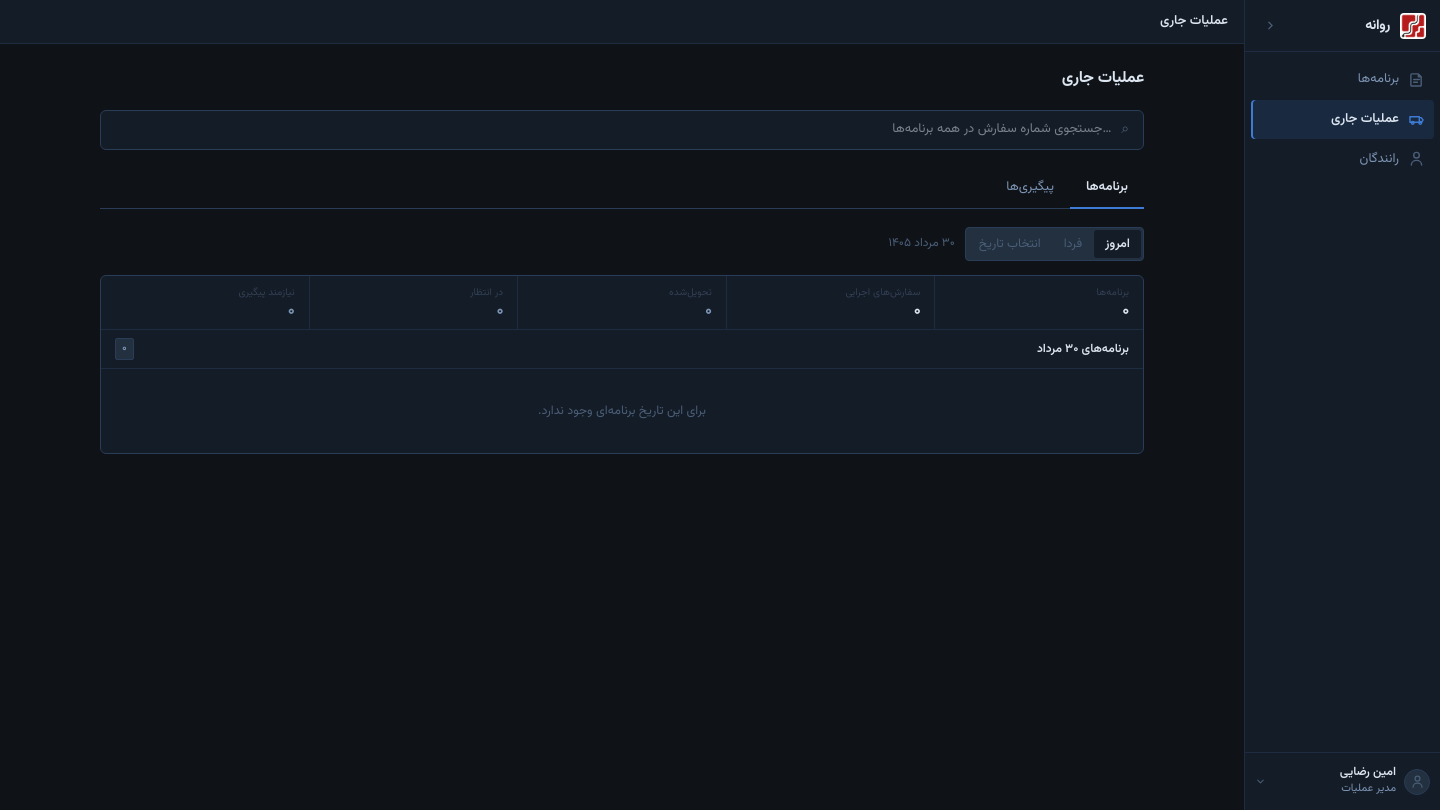
Test: A05 Global Order Search — UI › clearing search hides dropdown
Type "10" into the field with test id "ops-search-input" at point(613, 130), box [115,119,1111,140]
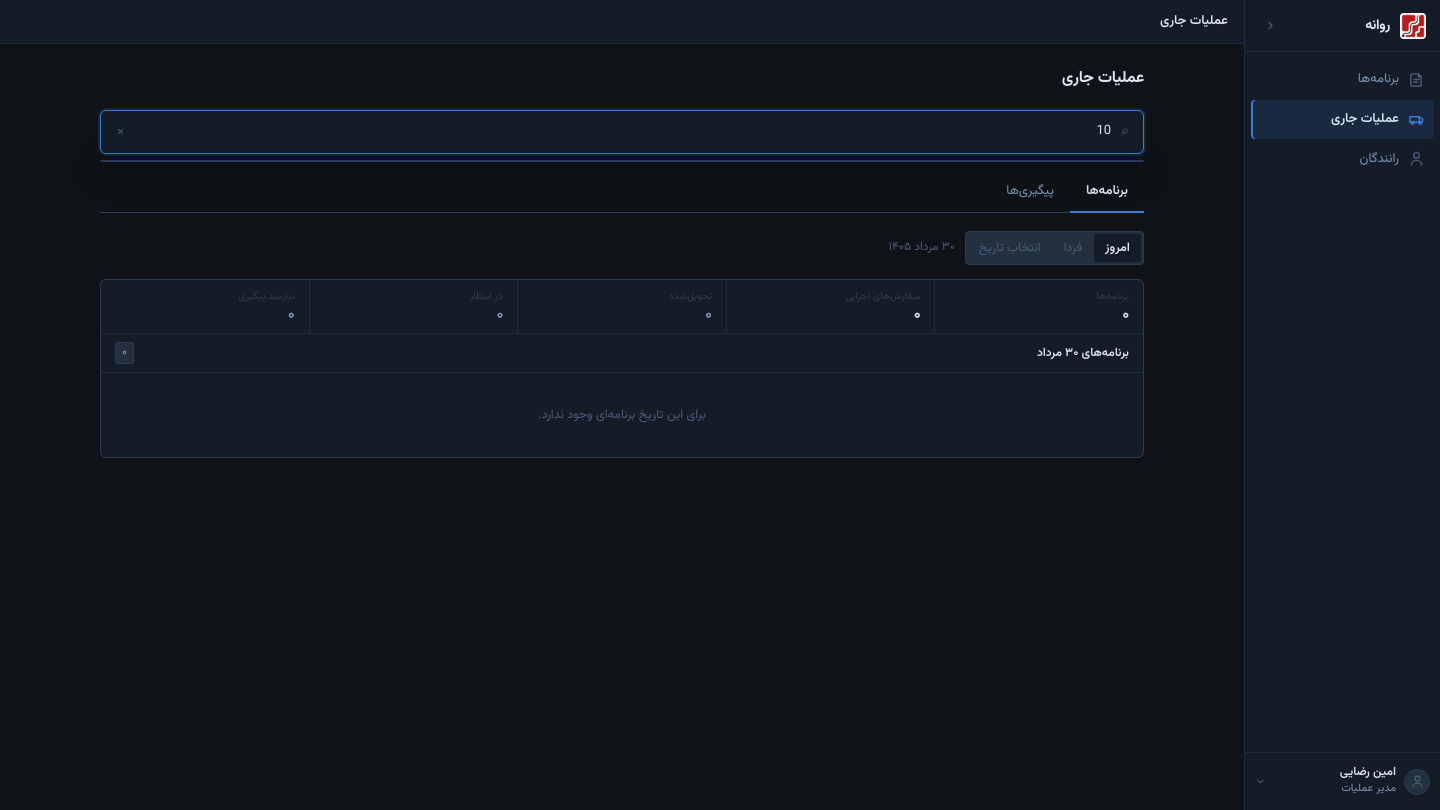
Result: the list with test id "ops-search-dropdown" is shown at [100,160,1144,162]
Clear the field with test id "ops-search-input" at point(624, 132), box [136,121,1111,142]
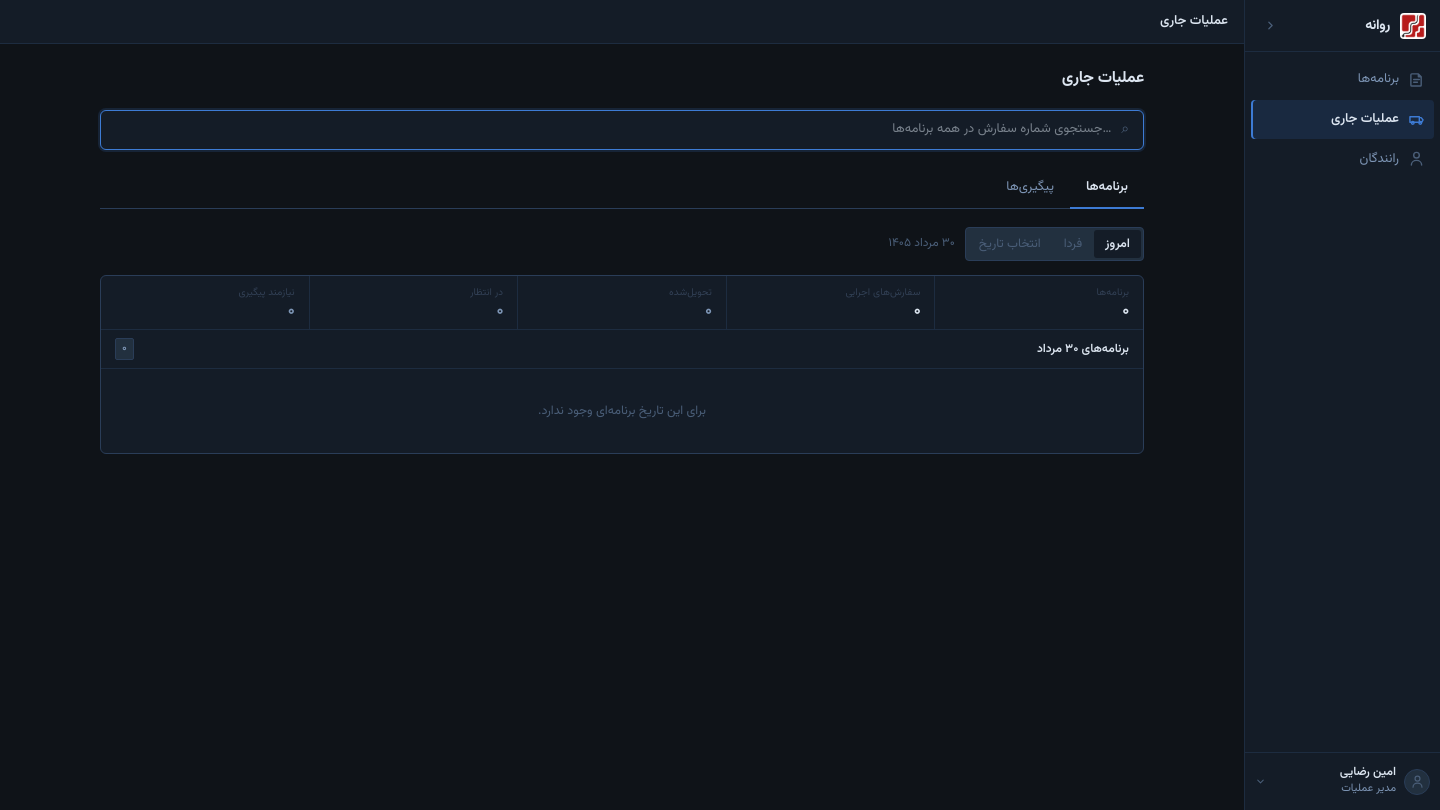
Result: the list with test id "ops-search-dropdown" is gone
